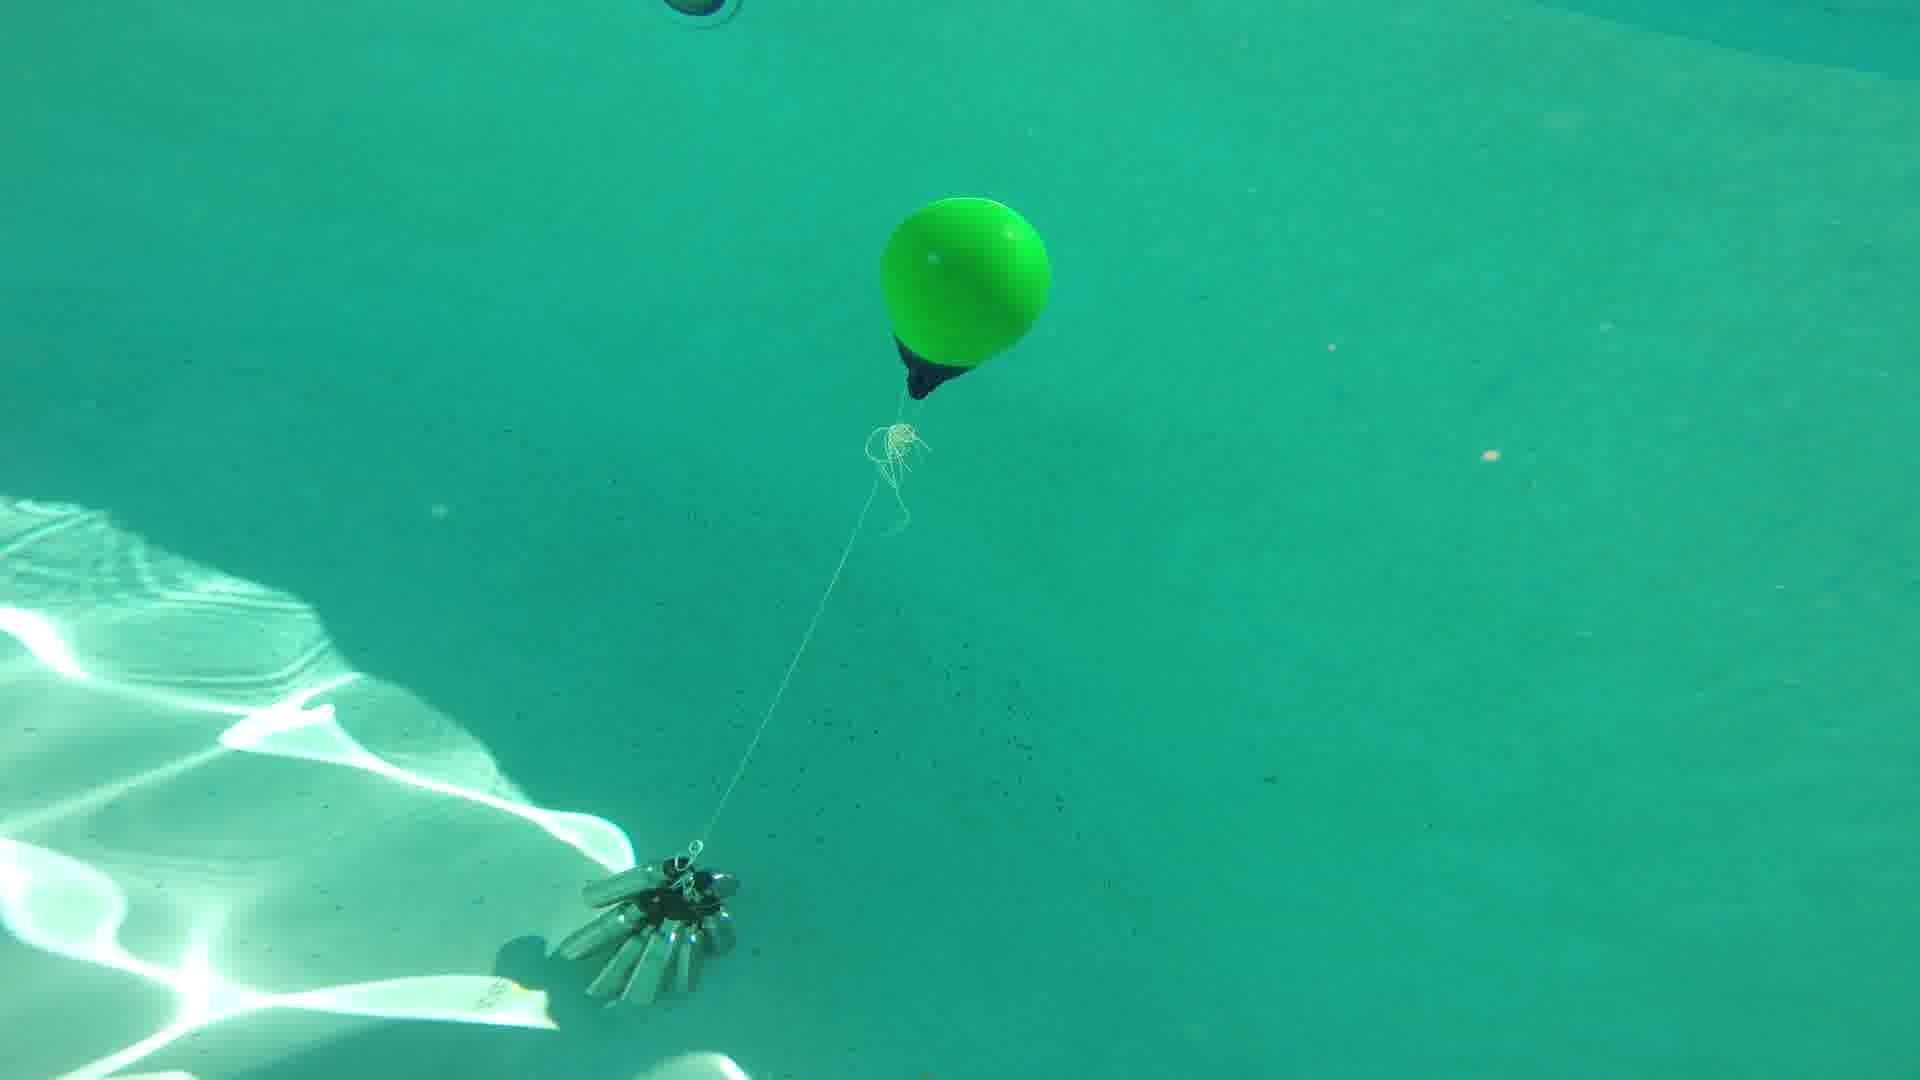yellow_buoy: (878, 196, 1054, 404)
